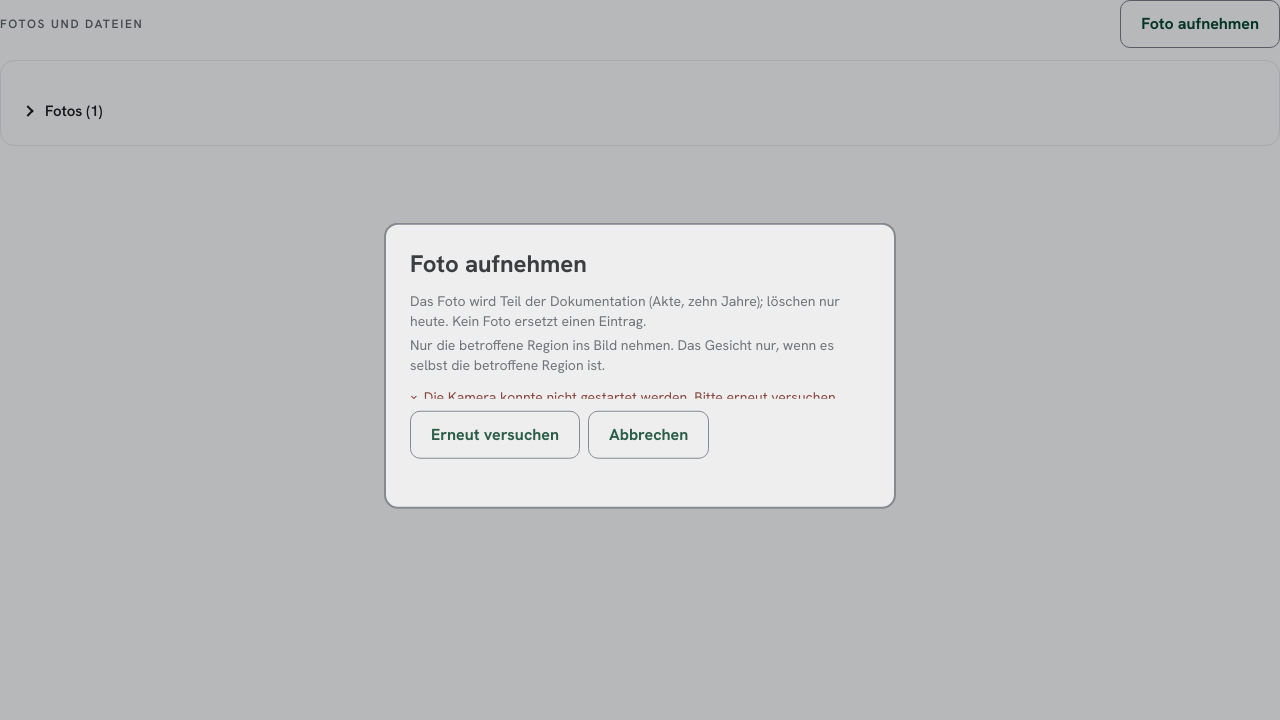
Test: Patientenfotos › zeigt die Liste ohne Vorschau und ohne Verweis auf Vorrat, mit Löschdatum (Punkt 40)
Expected: the text "01.09.2026 · Anna Beispiel" is not shown
Click the heading "Fotos (1)" at (62, 111), box [22,101,102,121]
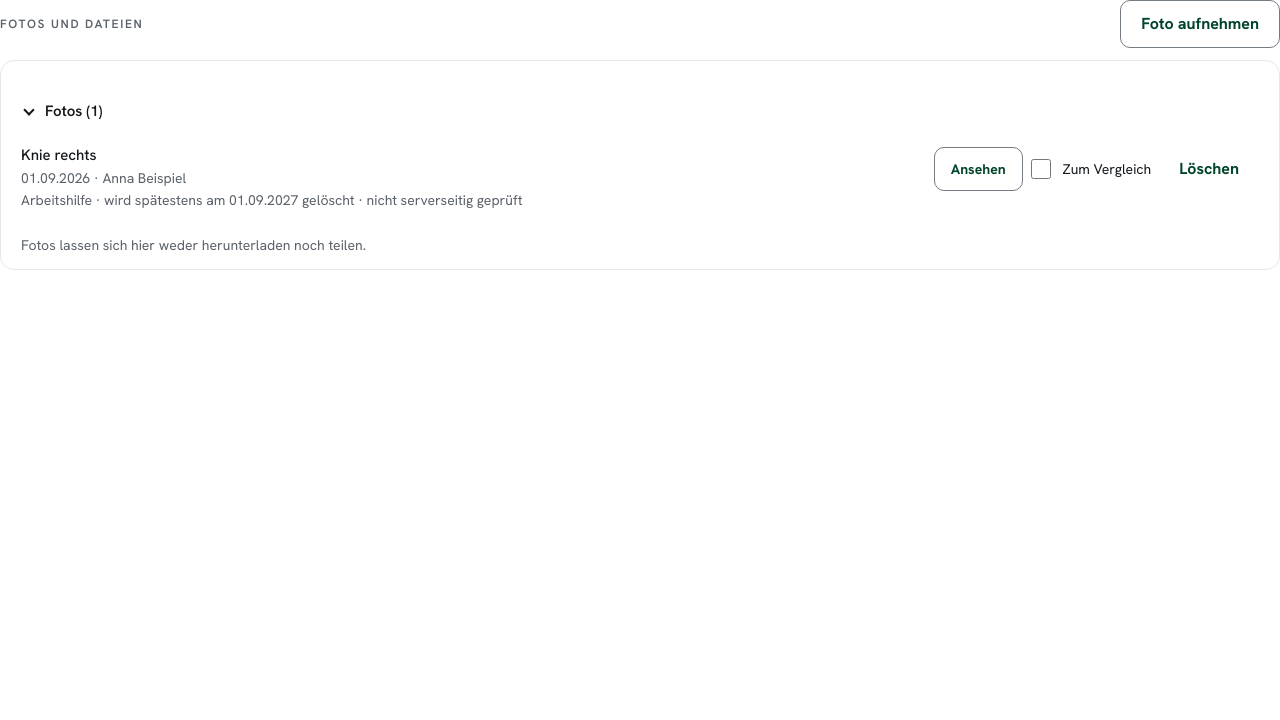
Now the text "01.09.2026 · Anna Beispiel" is shown, box [21,169,186,187]
Now the text "Arbeitshilfe · wird spätestens am 01.09.2027 gelöscht" is shown, box [21,190,522,210]
